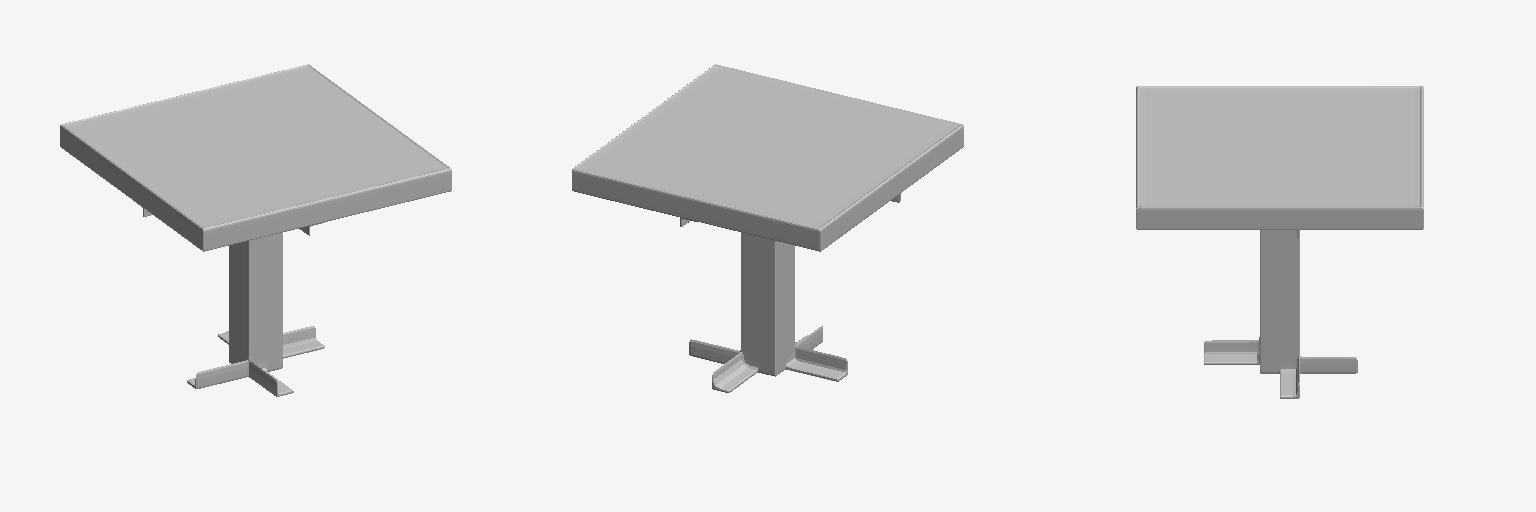
Rendered from MetalTable.obj.
3 views of the same model, side by side, from view 1: azimuth 30°, elevation 25°; view 2: azimuth 150°, elevation 25°; view 3: azimuth 270°, elevation 25° (orthographic).
Parts seen in each view (by area): view 1: Base; view 2: Base; view 3: Base.
Boxes of the visible parts, <box> form: Base: <box>60,64,451,396</box>; Base: <box>572,64,963,392</box>; Base: <box>1136,86,1423,398</box>.
Bounding box in the file's own units: 3.38 × 2.84 × 3.38.